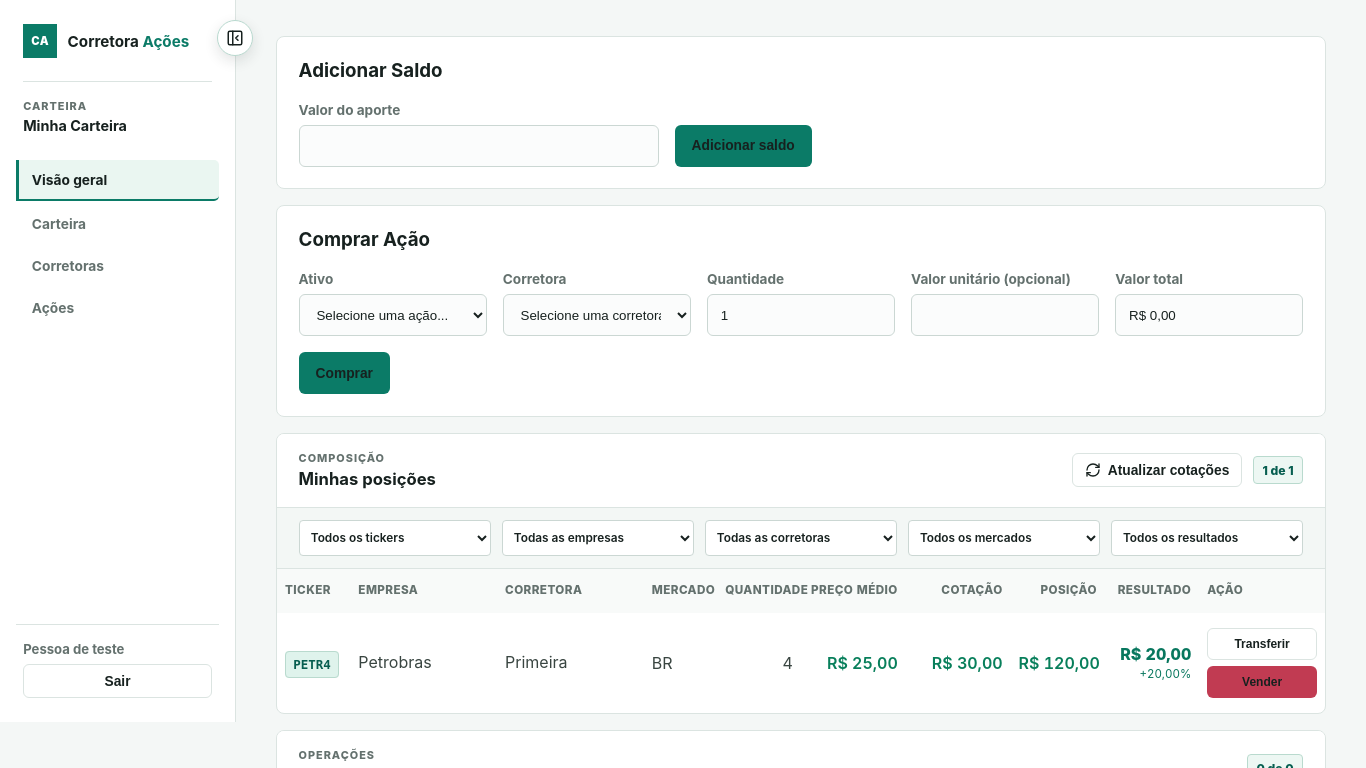
Test case: operacoes da carteira › transfere para outra corretora
Expected: the cell "Petrobras" is shown, [350,613,497,713]
Click the button "Transferir" at [1262, 644], box [1207,628,1317,660]
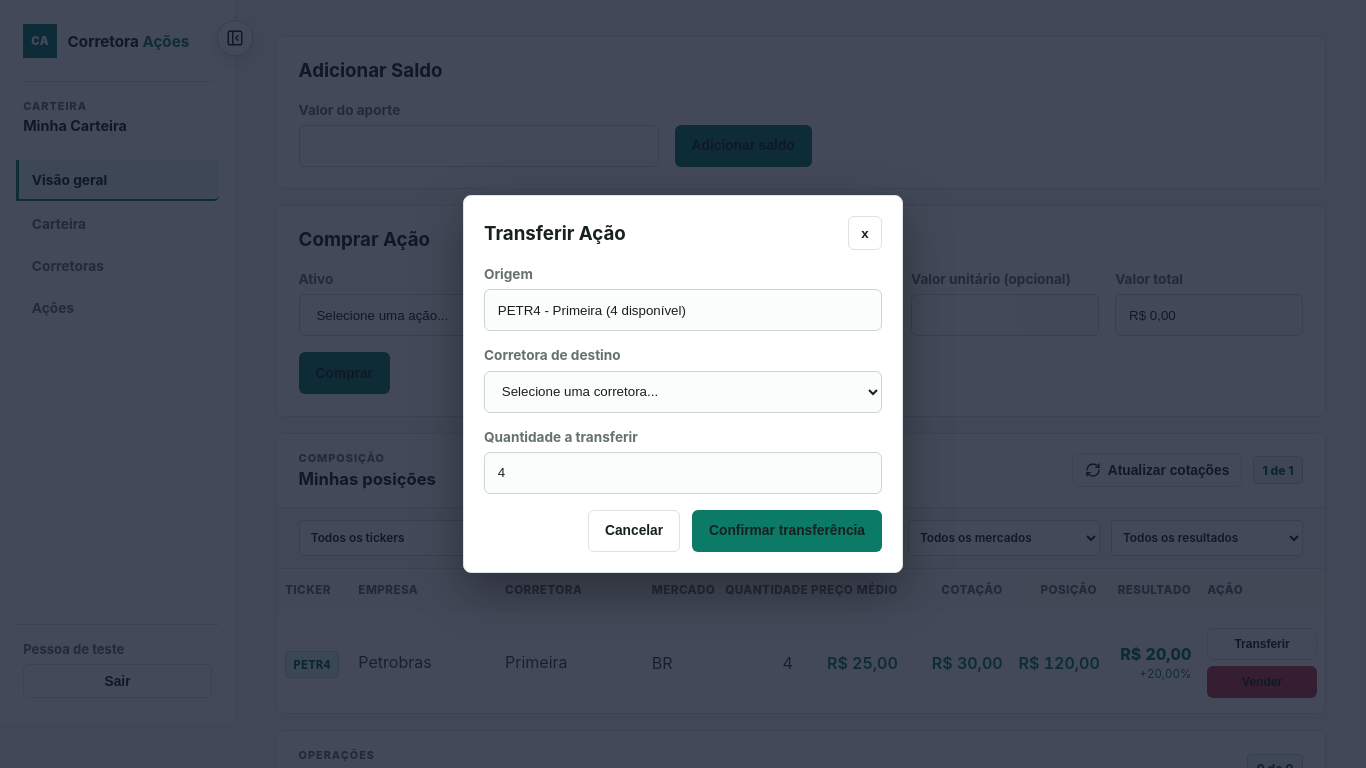
Select "Segunda" in the dropdown at [683, 392], box [484,371,882,413]
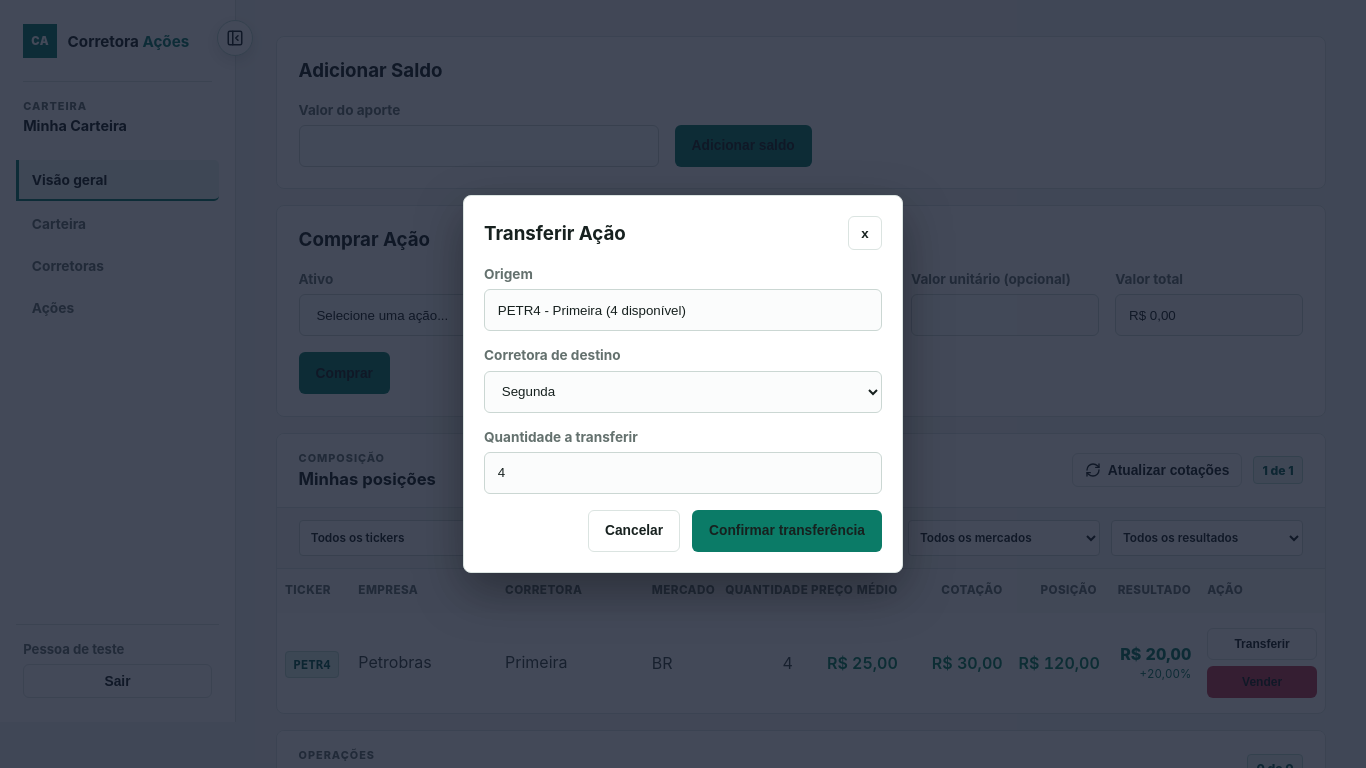
Replace the text in the number field with "2" at [683, 473], box [484,452,882,494]
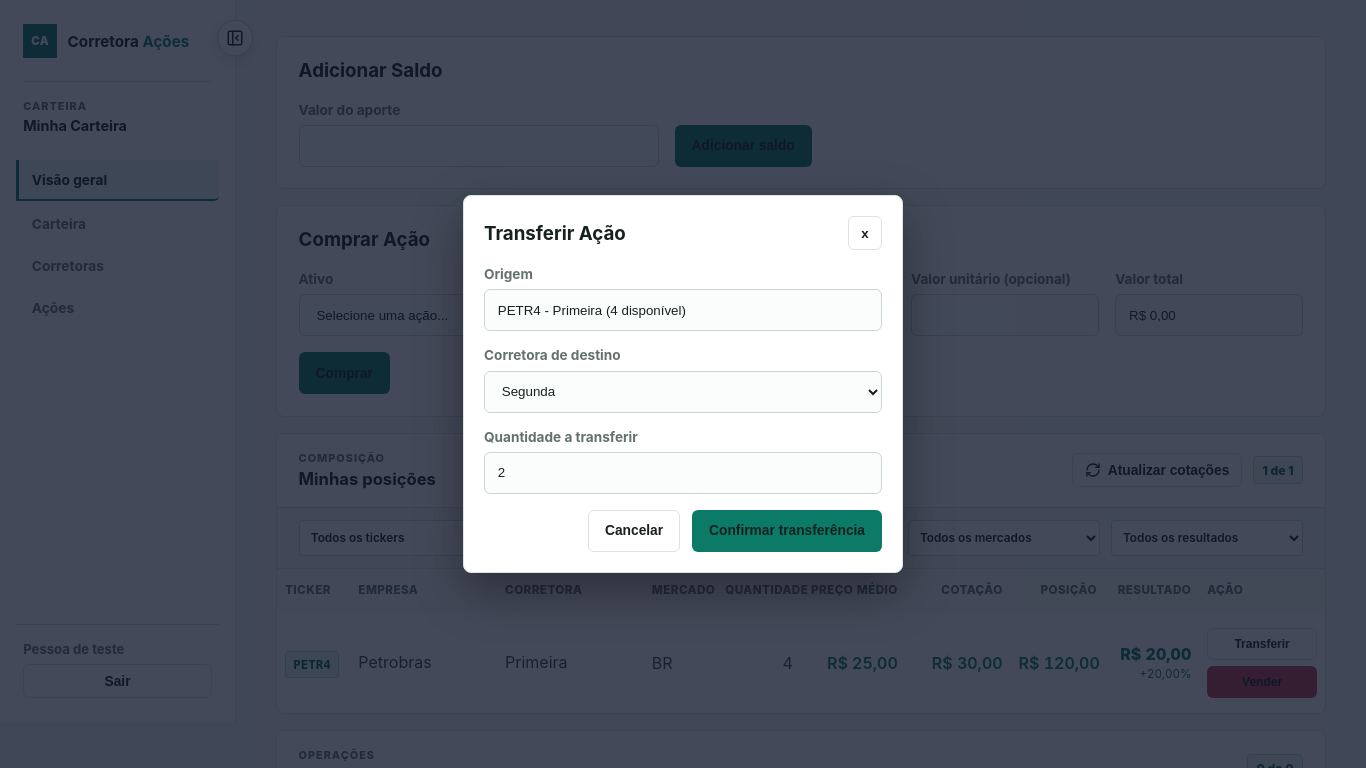
Submit the form named "Confirmar transferência", box [484,266,882,552]
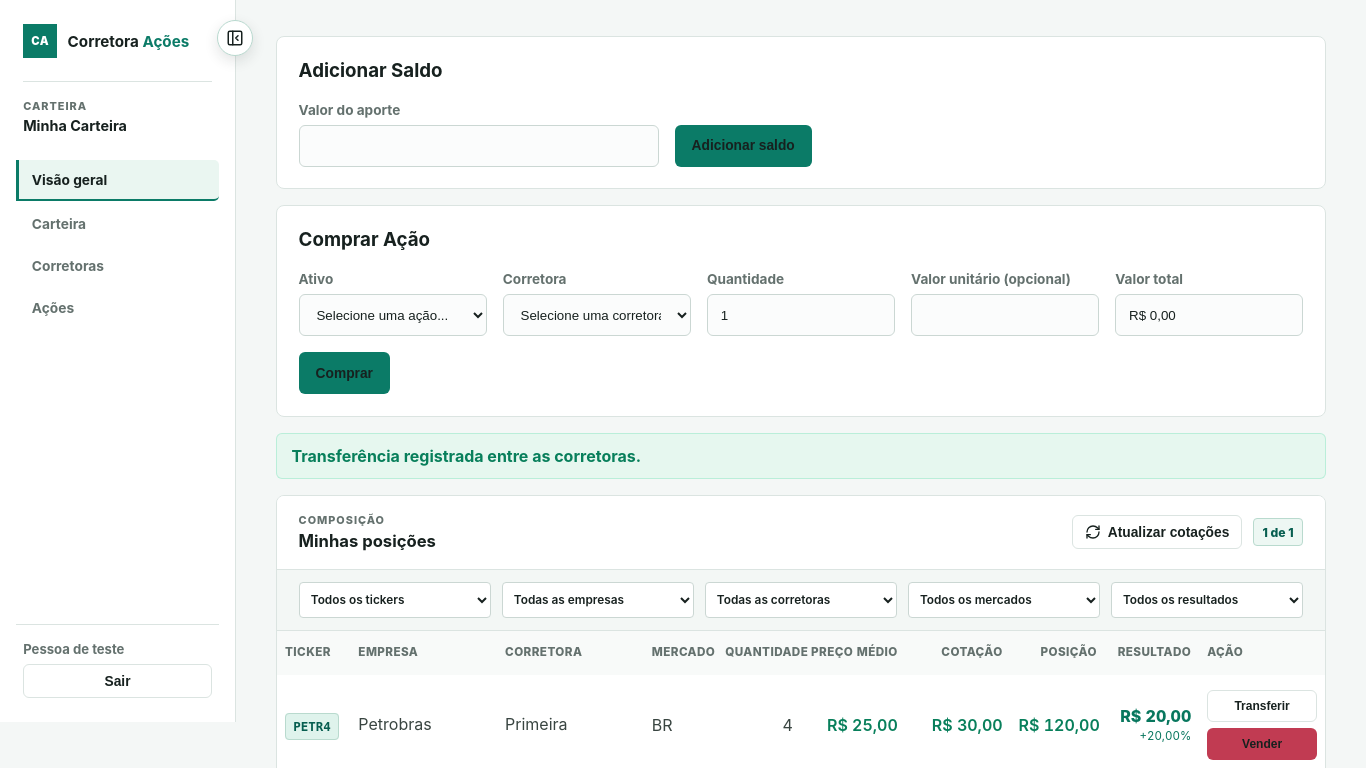
Expected: the text "Transferência registrada entre as corretoras." is shown, [276,433,1326,479]
